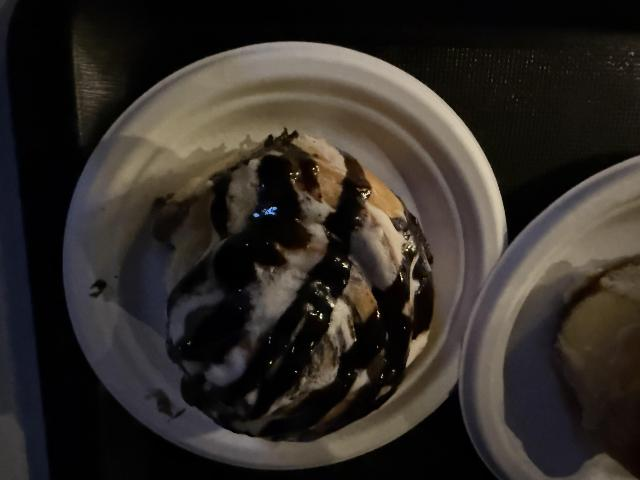Organik: (149, 154, 441, 421), (560, 254, 640, 471)
